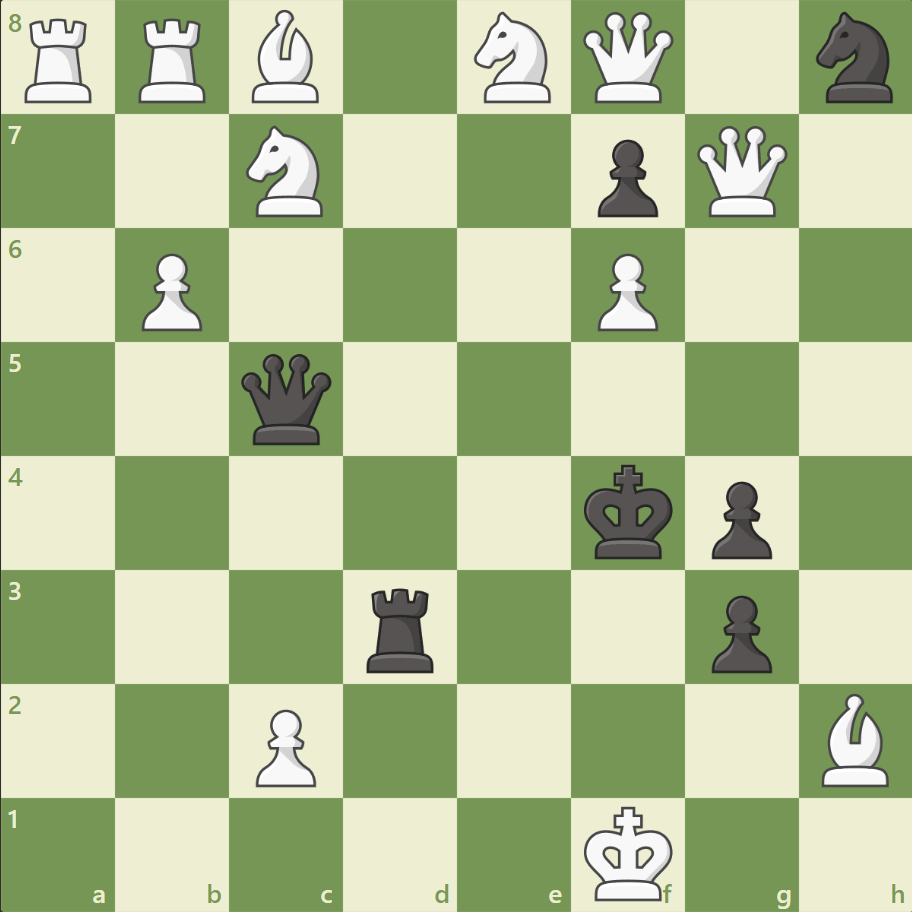B: (244, 6, 328, 109), (812, 687, 896, 790)
K: (579, 798, 679, 906)
N: (465, 7, 562, 110), (238, 121, 335, 223)
P: (133, 246, 208, 337), (247, 700, 322, 791), (588, 246, 662, 337)
Q: (691, 122, 790, 222), (578, 9, 677, 108)
R: (19, 12, 102, 109), (133, 12, 215, 109)
k: (579, 458, 679, 566)
n: (806, 7, 903, 110)
p: (701, 473, 776, 564), (701, 586, 776, 677), (588, 132, 662, 223)
q: (237, 349, 336, 449)
r: (360, 579, 442, 676)
